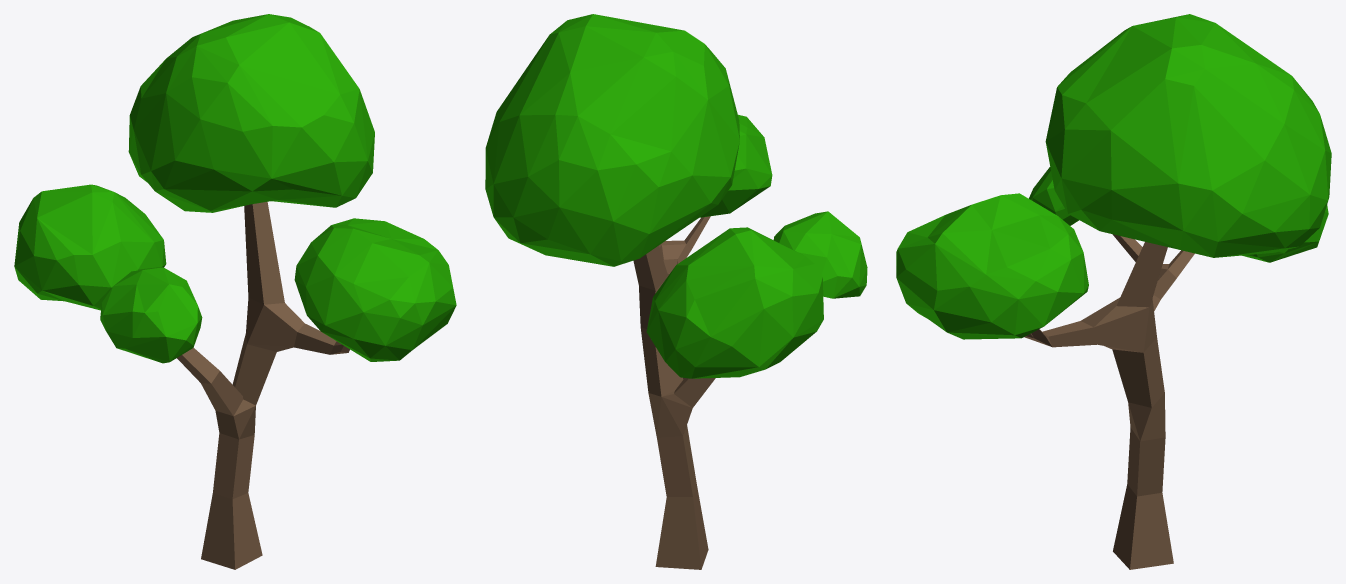
The model's file is TreeBlob.fbx.
3 renders of one model, left to right at view 1: azimuth 30°, elevation 25°; view 2: azimuth 150°, elevation 25°; view 3: azimuth 270°, elevation 25°, orthographic. The views are drawn at different scales.
Visible parts, largest first — view 1: Tree; view 2: Tree; view 3: Tree.
Boxes of the visible parts, x1,y1,x2,y2 form: Tree: (14, 14, 456, 569); Tree: (485, 14, 867, 569); Tree: (896, 14, 1331, 569).
Size of the model in its own units: 222 by 349 by 252.
